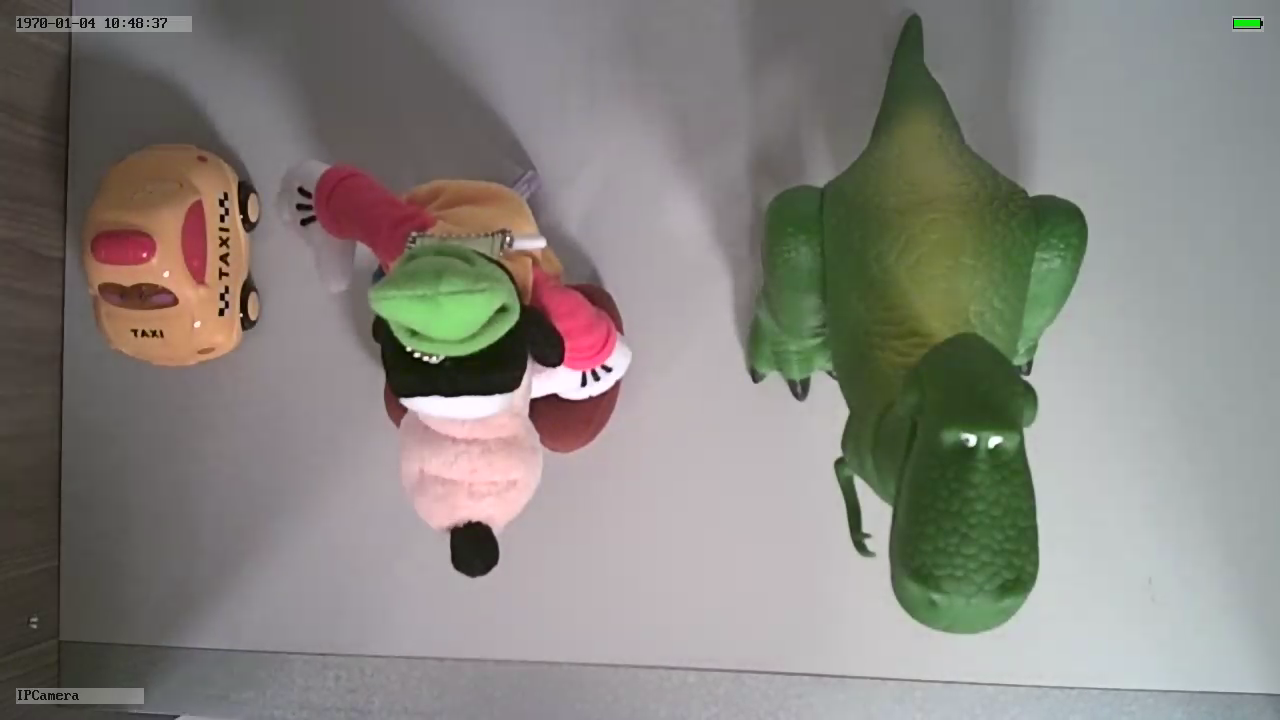goofy: (272, 156, 633, 578)
